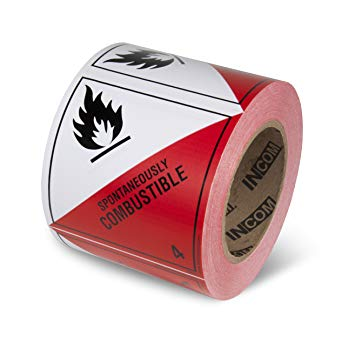SpontaneouslyCombustible: (47, 77, 231, 279)
